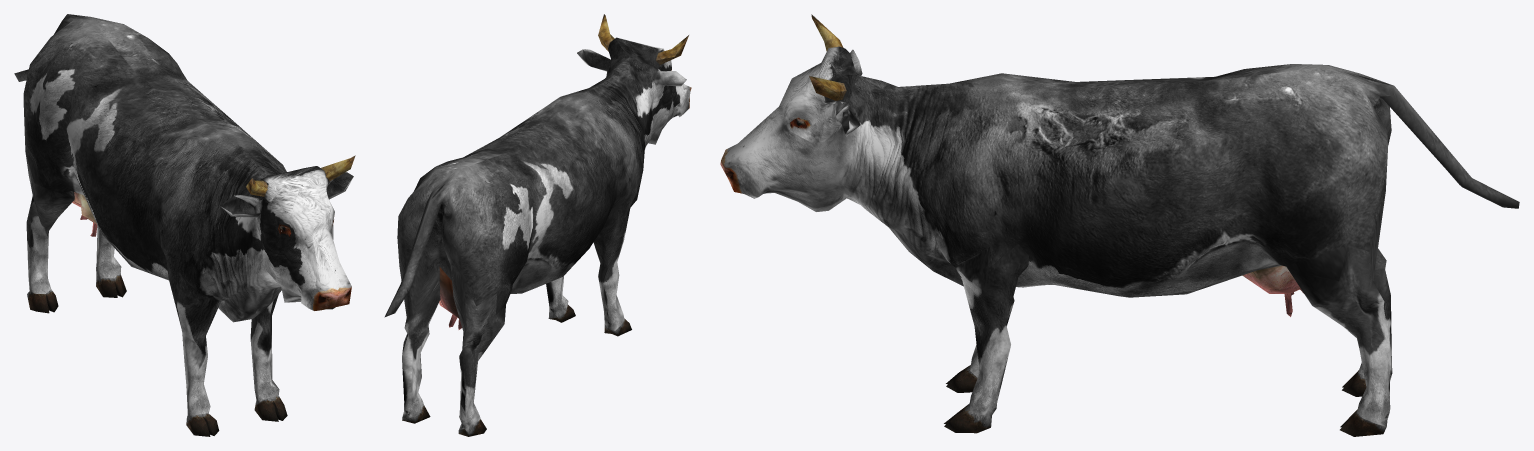
Rendered from cow-stand-black-cbj_LOD00.gltf.
3 renders of one model, left to right at view 1: azimuth 30°, elevation 25°; view 2: azimuth 150°, elevation 25°; view 3: azimuth 270°, elevation 25°, orthographic. The views are drawn at different scales.
Parts seen in each view (by area): view 1: Line01.008; view 2: Line01.008; view 3: Line01.008.
Part boxes in pixels (box(x1,y1,x2,y2)): Line01.008: box(14, 14, 355, 436); Line01.008: box(384, 14, 691, 436); Line01.008: box(720, 14, 1519, 436).
Size of the model in its own units: 0.8423 by 1.75 by 3.48.
